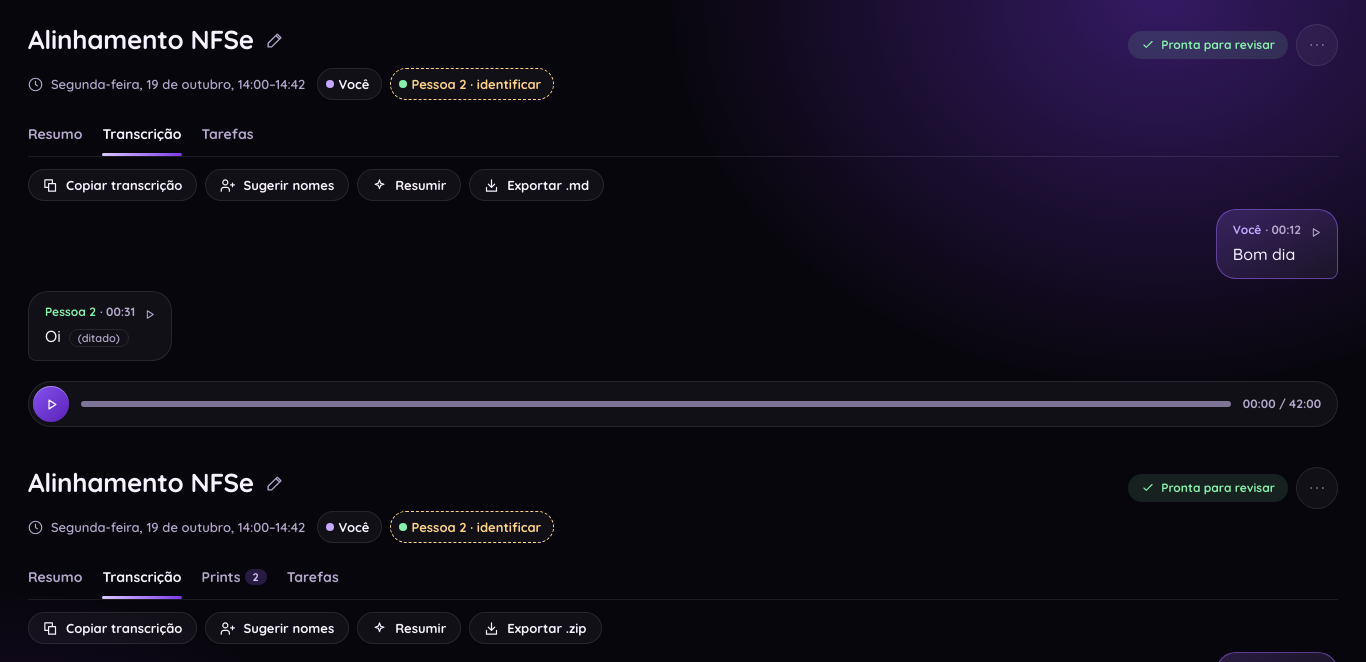
Test case: MeetingDetail › mostra a aba Prints (N) entre Transcrição e Tarefas só quando há prints
Check: the text with class "count" reads "2", box [252, 570, 259, 584]
Click the tab with id "tab-prints" at (234, 577), box [202, 555, 267, 599]
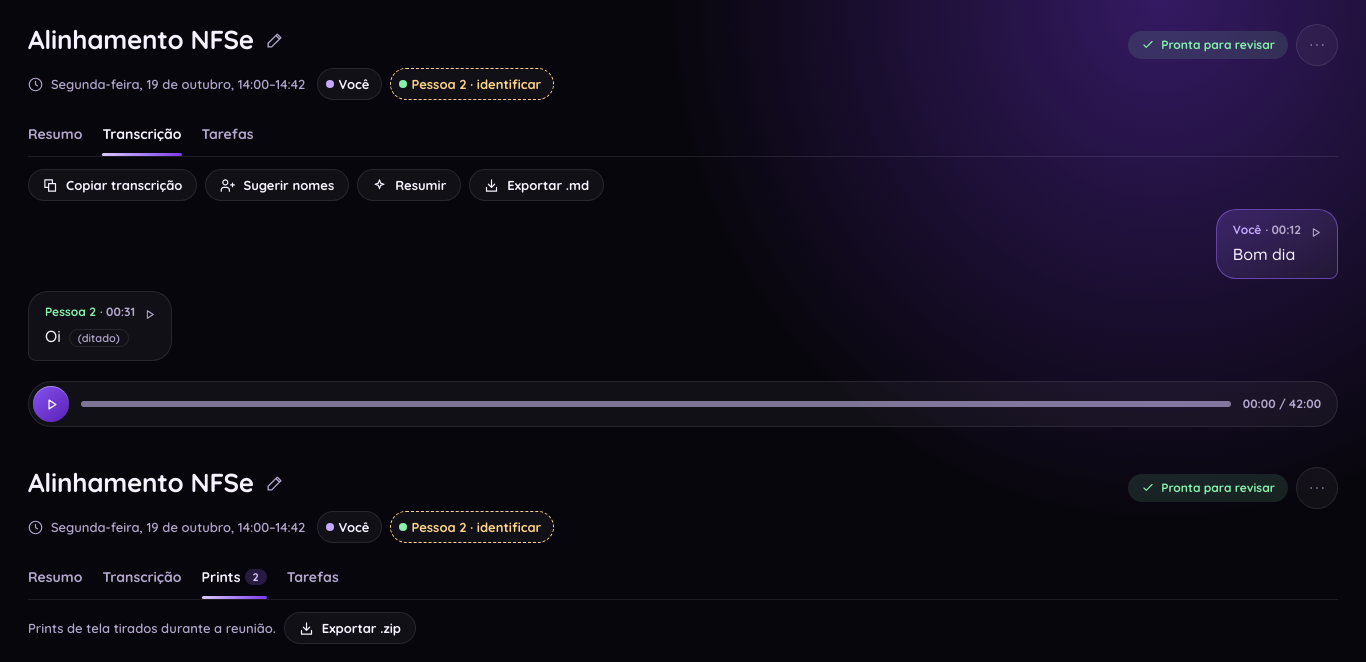
Check: the number of list items is 2
